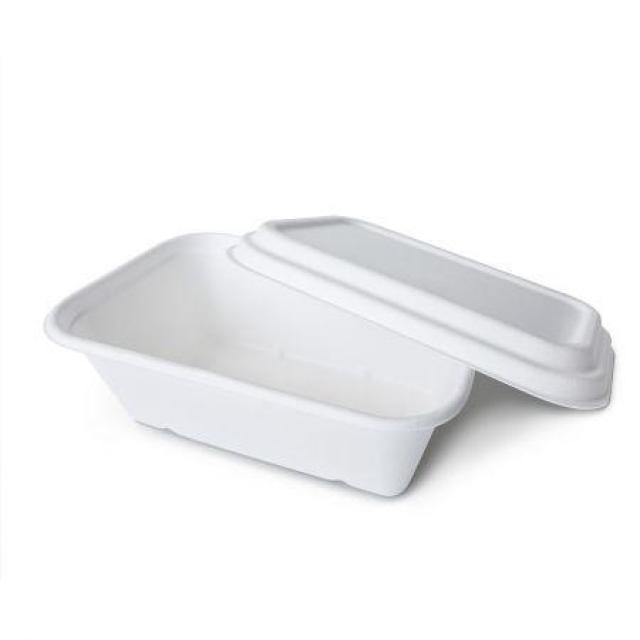styrofoam: (42, 210, 616, 498)
